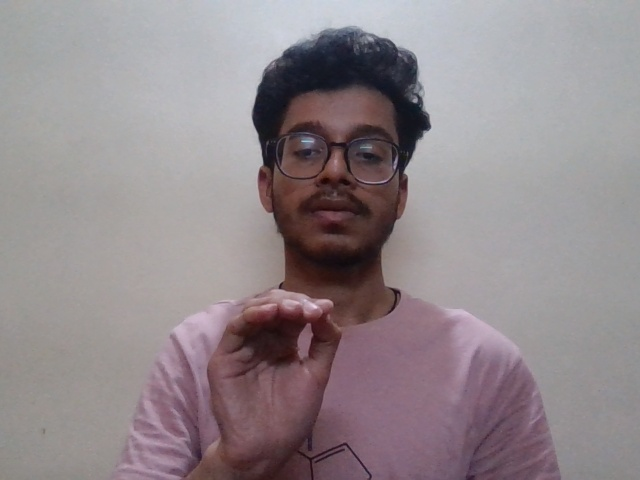sound: (204, 278, 342, 472)
